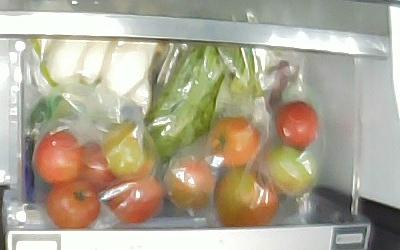tomato_vinyl: (214, 166, 278, 228), (104, 120, 155, 180), (46, 177, 100, 228), (166, 156, 215, 211), (208, 116, 260, 166), (107, 177, 164, 222), (35, 129, 82, 183), (268, 146, 316, 195), (276, 102, 318, 147), (80, 141, 114, 189)
